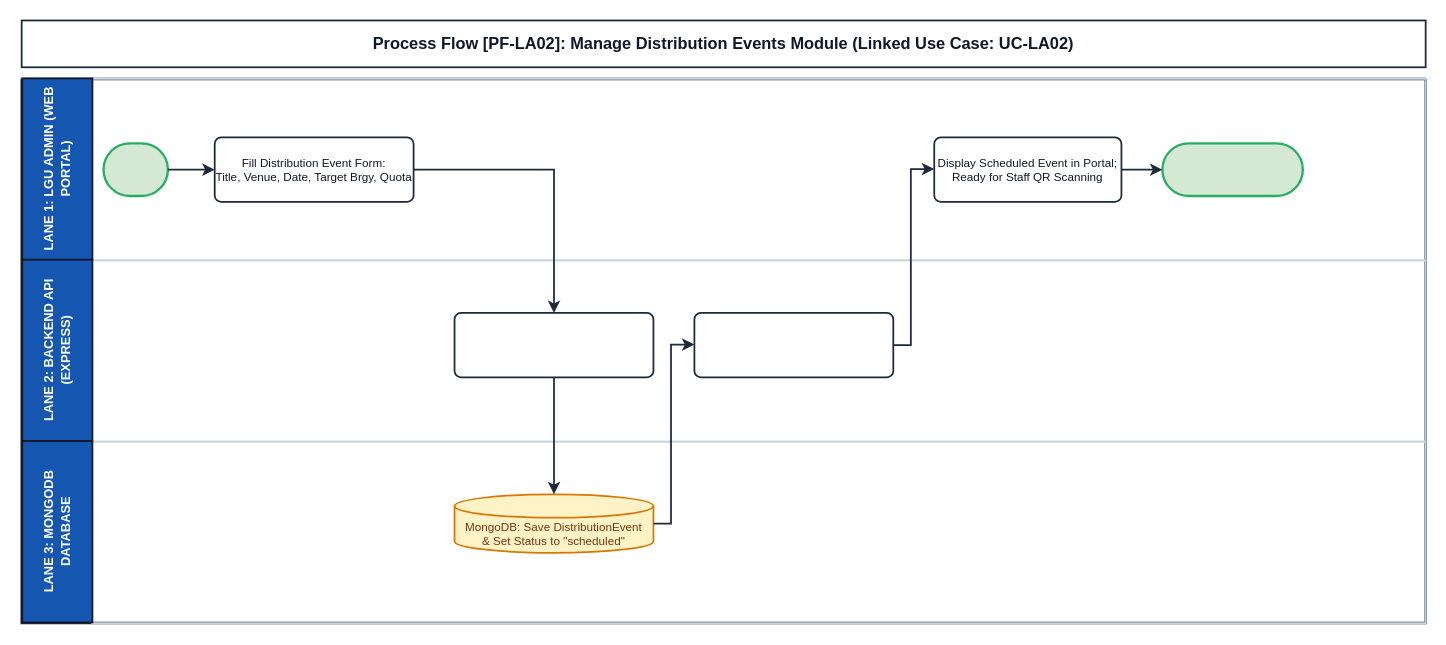
This 1446x645 diagram has some shape labels left out. Each missing label, with the centre of its shape:
"END (Event Active)" belongs at (1232,169).
"POST /api/distributions/events Event Schedule Payload" belongs at (553,345).
"Socket.IO: Broadcast Distribution Notice to Resident Mobile Apps in Target Area" belongs at (793,345).
"START" belongs at (135,169).
